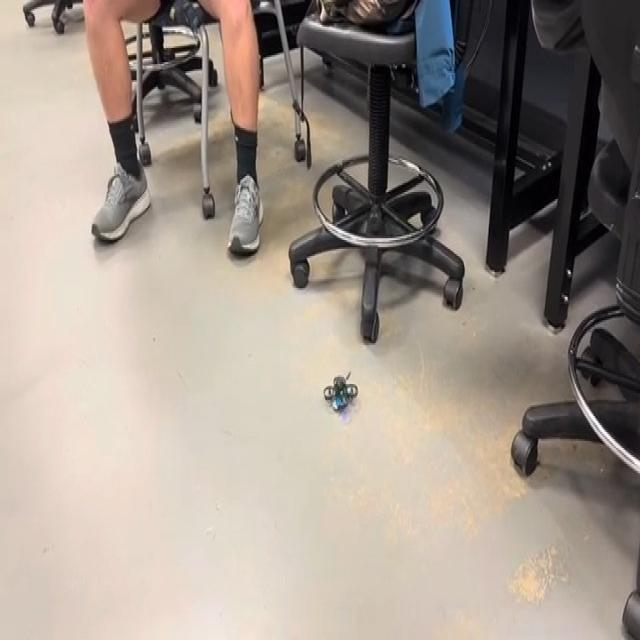drone: (313, 359, 367, 428)
